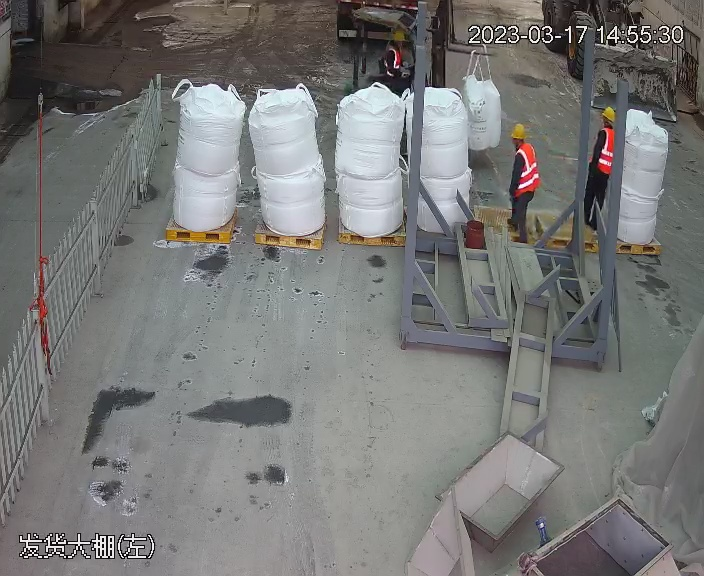head: (508, 122, 537, 163), (595, 107, 618, 142), (385, 28, 406, 63)
helmet: (508, 122, 528, 139), (600, 106, 617, 122), (393, 30, 407, 44)
people: (503, 123, 545, 245), (585, 105, 621, 229)
